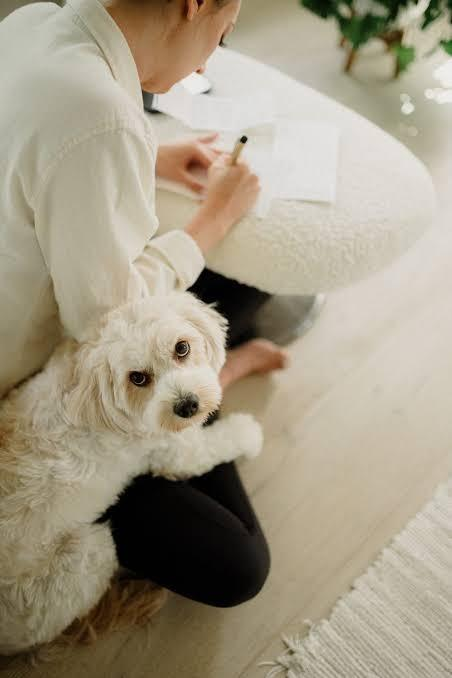adult_dog: (0, 293, 266, 676)
non-dog: (0, 1, 322, 612)
